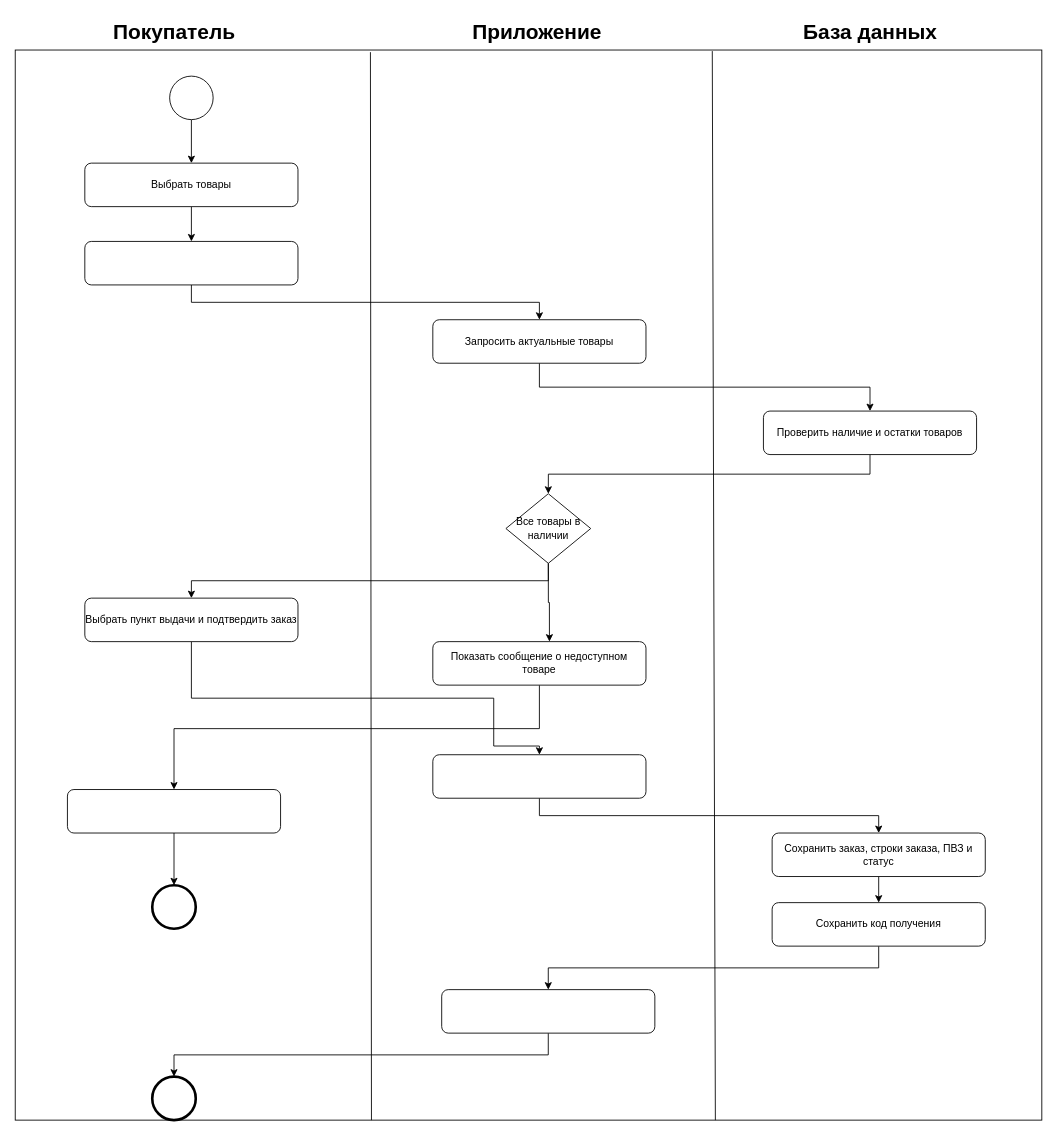
This 1057x1136 diagram has some shape labels left out. Here are the shapes that lost their labels. From the top down, the centre of each, then its label:
[191,263]: Перейти к оформлению
[539,776]: Создать данные заказа
[174,811]: Изменить корзину
[548,1011]: Показать подтверждение заказа
